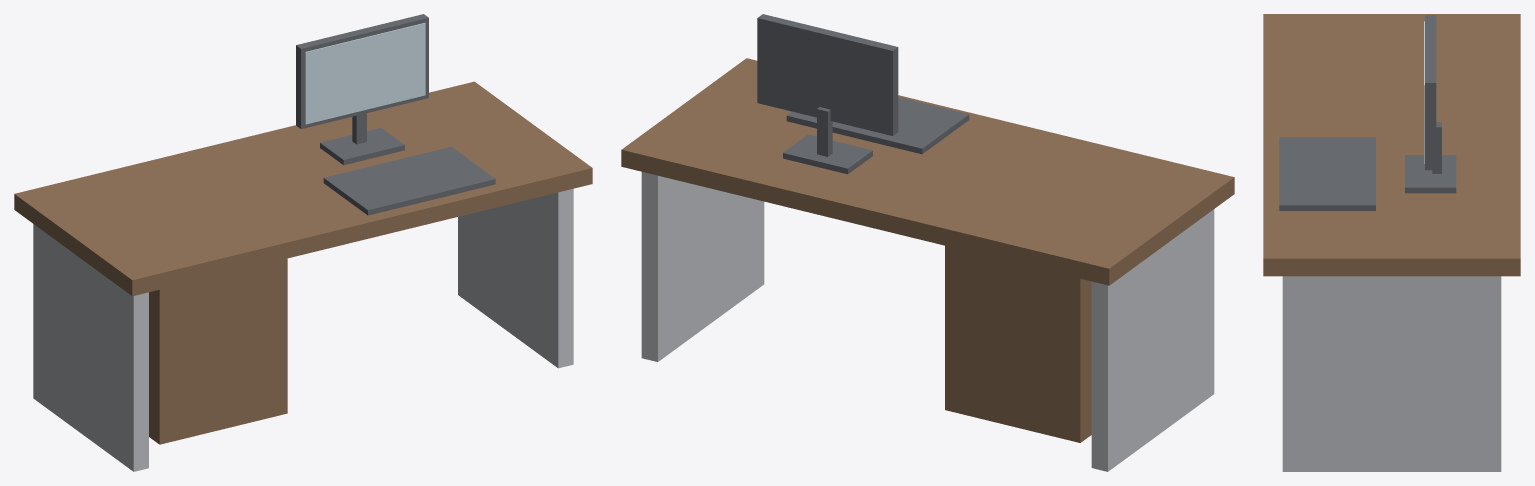
Rendered from bank-vault-heist-kit-manager-desk-e64d9293__25092.glb.
The picture shows the model from 3 angles, left to right: view 1: azimuth 30°, elevation 25°; view 2: azimuth 150°, elevation 25°; view 3: azimuth 270°, elevation 25°; orthographic projection. The views are drawn at different scales.
Parts seen in each view (by area): view 1: manager-desk; view 2: manager-desk; view 3: manager-desk.
Part boxes in pixels (box(x1,y1,x2,y2)): manager-desk: box(14, 14, 592, 471); manager-desk: box(621, 14, 1234, 471); manager-desk: box(1263, 14, 1520, 471).
Size of the model in its own units: 1.8 by 1.19 by 0.7999.
